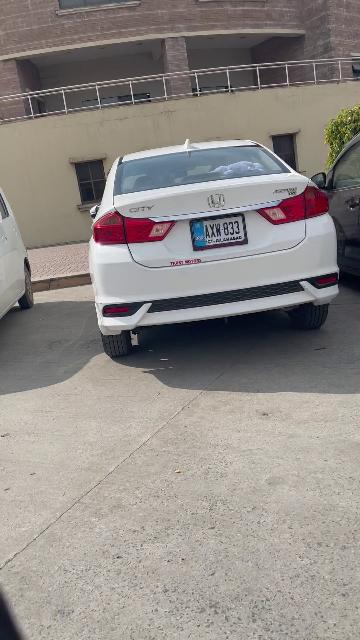plate: (190, 214, 248, 251)
